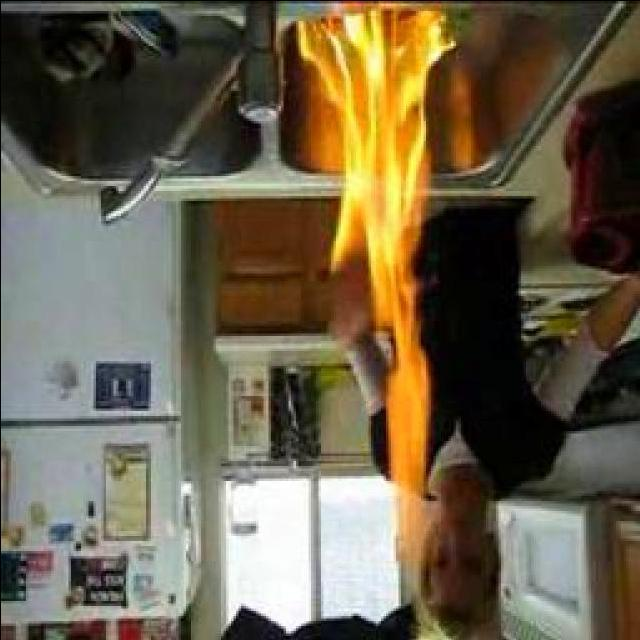Fire: (318, 9, 440, 533)
